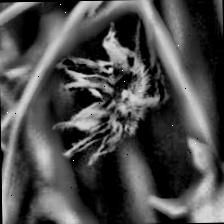Gray Mold: (50, 20, 158, 164)
